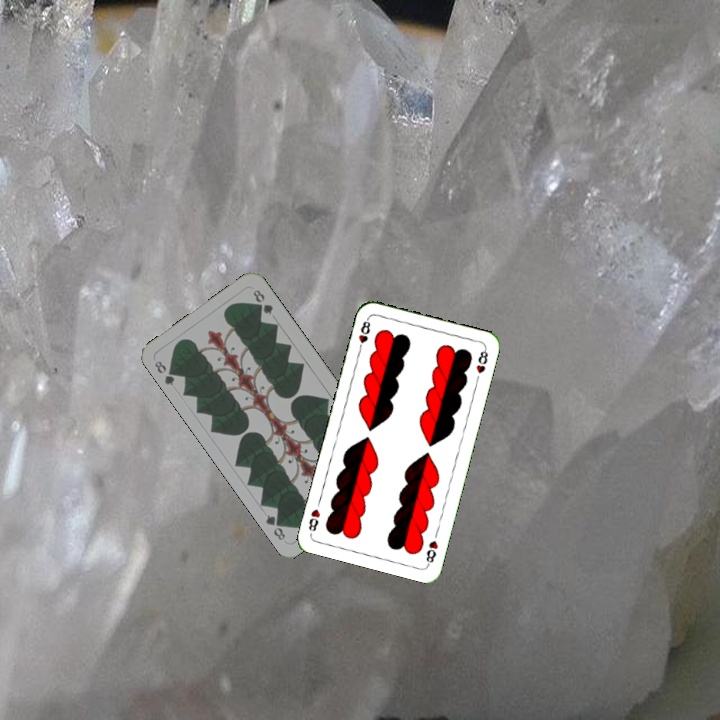G8: (150, 357, 180, 388)
H8: (355, 314, 373, 354), (422, 536, 441, 567)
